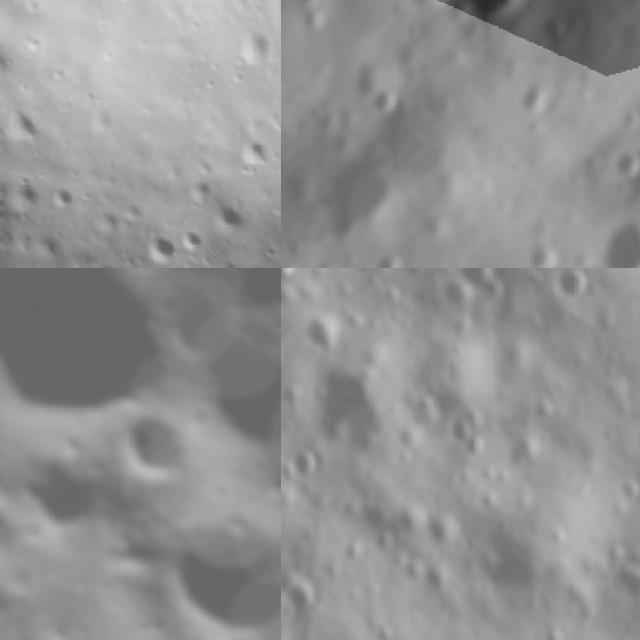crater: (0, 268, 211, 463), (141, 474, 281, 640), (354, 66, 501, 212), (144, 268, 280, 392), (288, 132, 410, 260), (3, 436, 125, 558), (97, 389, 211, 503), (312, 358, 408, 462), (418, 0, 547, 56), (574, 197, 640, 268), (614, 12, 640, 133), (205, 184, 259, 240), (227, 20, 281, 74), (435, 410, 489, 464), (510, 76, 561, 127), (507, 227, 569, 268), (0, 95, 45, 148), (132, 268, 238, 290), (355, 76, 402, 124), (232, 128, 278, 174), (138, 221, 183, 268), (604, 553, 640, 609), (601, 139, 640, 190), (456, 268, 510, 304), (4, 175, 48, 219), (281, 579, 322, 624), (291, 2, 334, 42), (550, 268, 596, 305), (299, 312, 339, 354), (45, 176, 82, 214), (358, 244, 415, 268), (173, 220, 209, 255), (281, 0, 332, 18), (625, 413, 640, 464)
